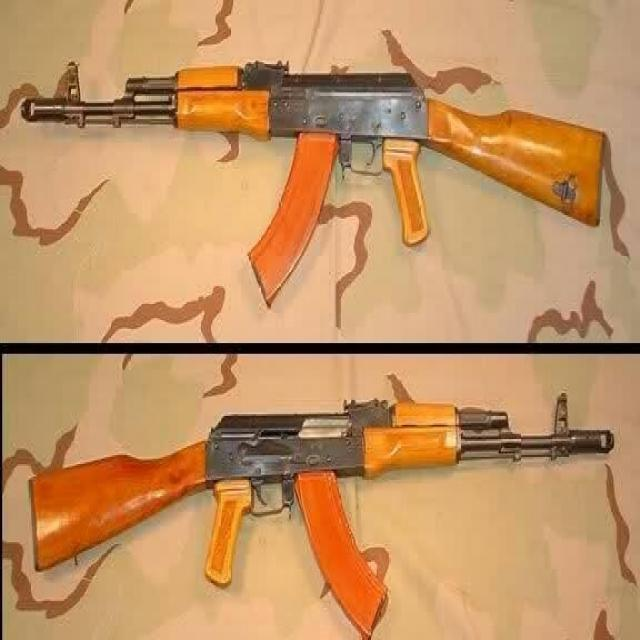ak: (27, 385, 618, 629), (12, 60, 608, 255)
